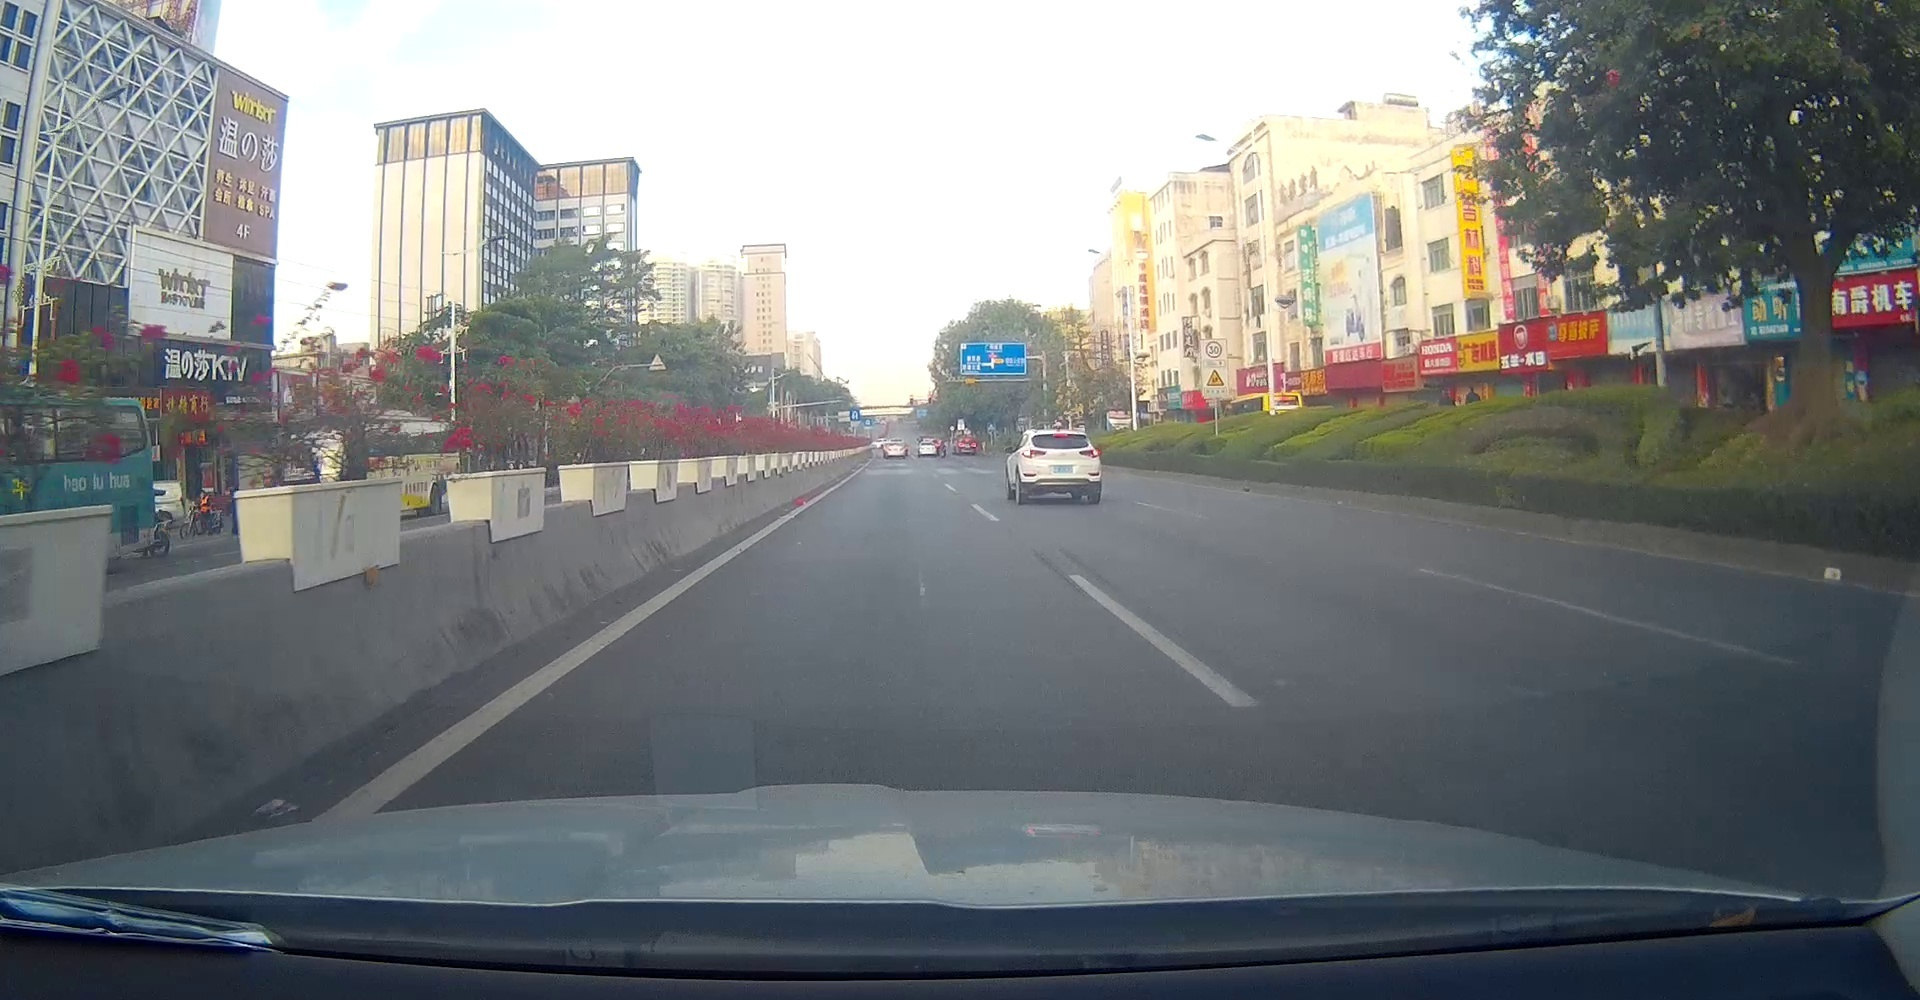L_light: (1022, 449, 1046, 459)
R_light: (1079, 449, 1098, 458)
T_light: (1051, 433, 1067, 438)
day-brake: (1021, 428, 1101, 503)
